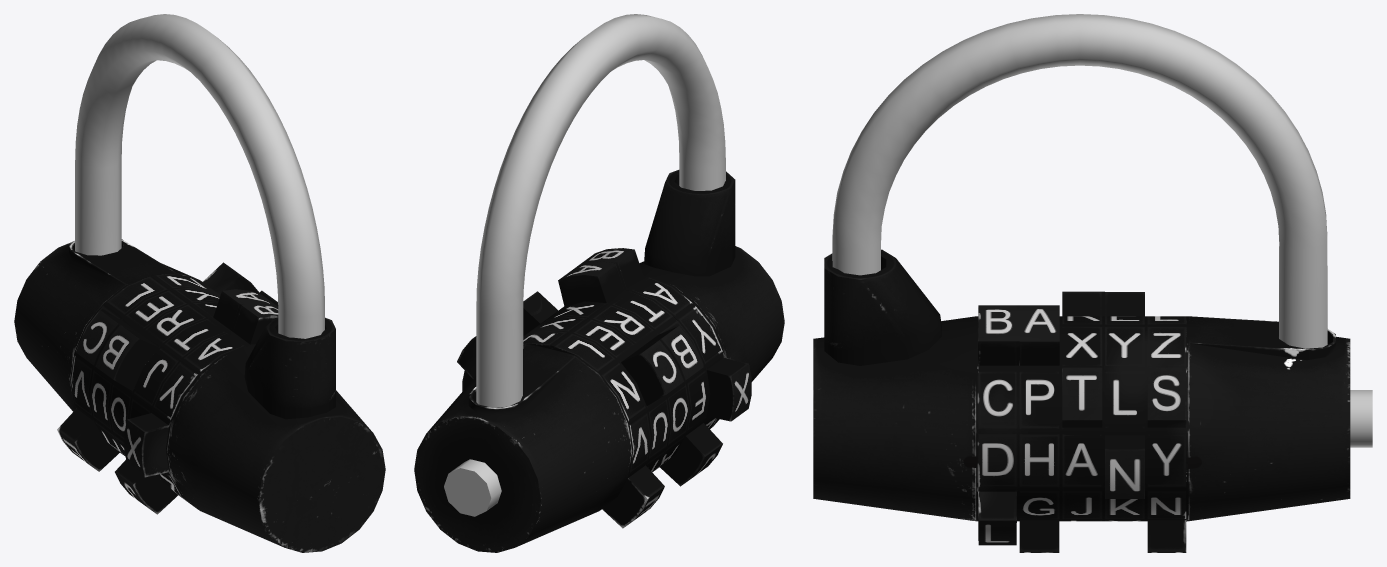
File: PlayableLock.fbx
3 views of the same model, side by side, from view 1: azimuth 30°, elevation 25°; view 2: azimuth 150°, elevation 25°; view 3: azimuth 270°, elevation 25° (orthographic). The views are drawn at different scales.
Parts seen in each view (by area): view 1: LP1, LP2, Letters1, Letters5, Letters2, Letters3, Letters4; view 2: LP1, LP2, Letters5, Letters2, Letters1, Letters3, Letters4, LP3; view 3: LP1, LP2, Letters2, Letters1, Letters5, Letters3, Letters4, LP3.
Boxes of the visible parts, left/top/right/bottom form: LP1: left=14, top=239, right=385, bottom=552; LP2: left=75, top=14, right=324, bottom=338; Letters1: left=124, top=302, right=278, bottom=509; Letters5: left=57, top=262, right=258, bottom=471; Letters2: left=115, top=289, right=277, bottom=514; Letters3: left=94, top=290, right=278, bottom=454; Letters4: left=76, top=287, right=220, bottom=456; LP1: left=414, top=170, right=784, bottom=552; LP2: left=476, top=14, right=725, bottom=407; Letters5: left=457, top=329, right=664, bottom=528; Letters2: left=558, top=261, right=722, bottom=486; Letters1: left=577, top=248, right=751, bottom=428; Letters3: left=523, top=291, right=703, bottom=472; Letters4: left=462, top=316, right=684, bottom=471; LP3: left=444, top=459, right=501, bottom=516; LP1: left=813, top=249, right=1350, bottom=521; LP2: left=832, top=14, right=1327, bottom=348; Letters2: left=1019, top=305, right=1062, bottom=552; Letters1: left=976, top=305, right=1019, bottom=545; Letters5: left=1144, top=316, right=1187, bottom=552; Letters3: left=1062, top=291, right=1104, bottom=521; Letters4: left=1105, top=292, right=1144, bottom=521; LP3: left=1350, top=390, right=1372, bottom=447.
Bounding box in the file's own units: 2.07 × 4.38 × 4.26.
